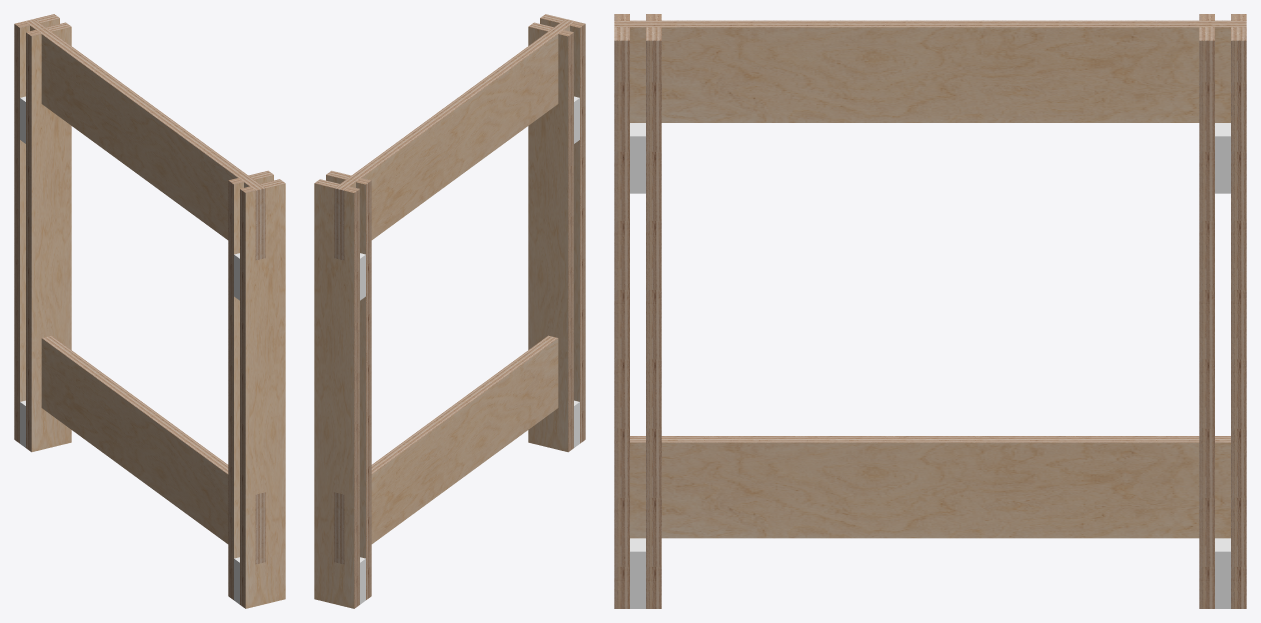
The model's file is mesa-trabajo-completa.glb.
The picture shows the model from 3 angles, left to right: view 1: azimuth 30°, elevation 25°; view 2: azimuth 150°, elevation 25°; view 3: azimuth 270°, elevation 25°; orthographic projection. The views are drawn at different scales.
Parts seen in each view (by area): view 1: T_SURFACES, T_CANTOS; view 2: T_SURFACES, T_CANTOS; view 3: T_SURFACES, T_CANTOS, Object_49, Object_51, Object_80, Object_81.
Boxes of the visible parts, <box> form: T_SURFACES: <box>20,18,285,608</box>; T_CANTOS: <box>14,14,284,608</box>; T_SURFACES: <box>314,18,579,608</box>; T_CANTOS: <box>315,14,585,608</box>; T_SURFACES: <box>630,27,1230,538</box>; T_CANTOS: <box>614,14,1246,608</box>; Object_49: <box>630,538,645,608</box>; Object_51: <box>630,123,645,193</box>; Object_80: <box>1215,538,1230,608</box>; Object_81: <box>1215,123,1230,193</box>.
Size of the model in its own units: 0.06 by 0.595 by 0.6.
Materials: 3 (2 with a texture image).
